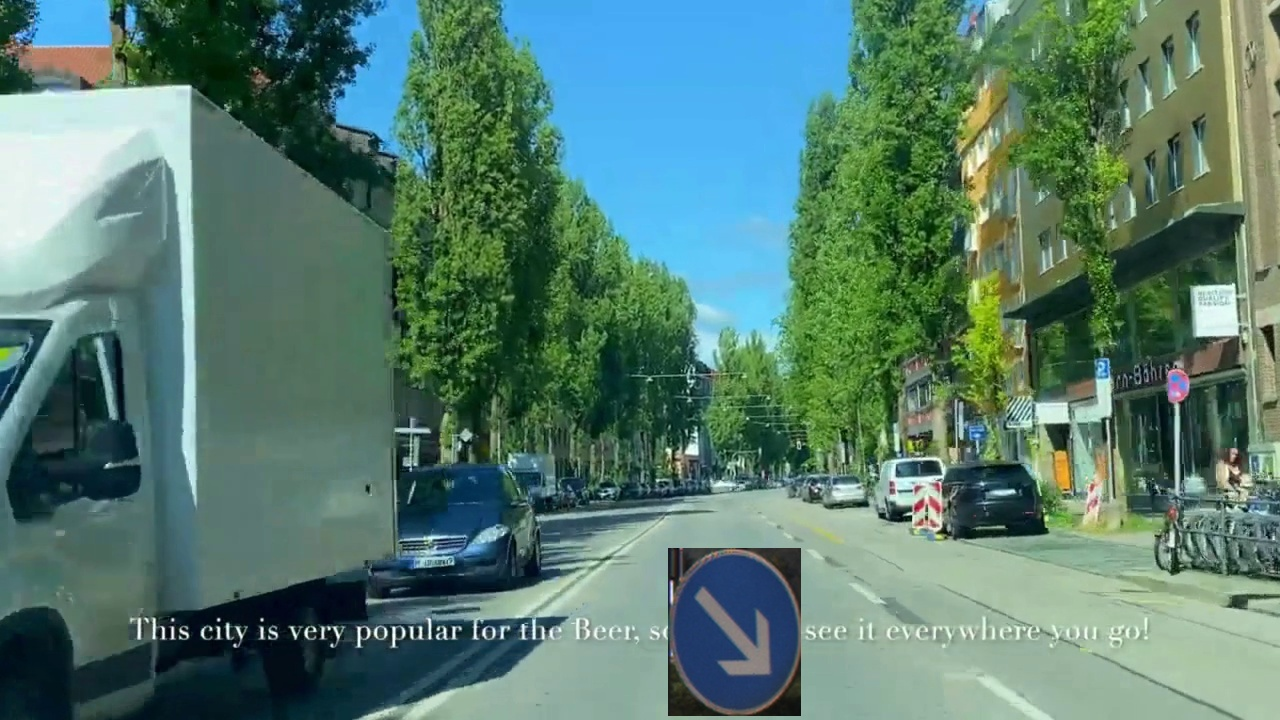Keep right: (668, 548, 801, 716)
